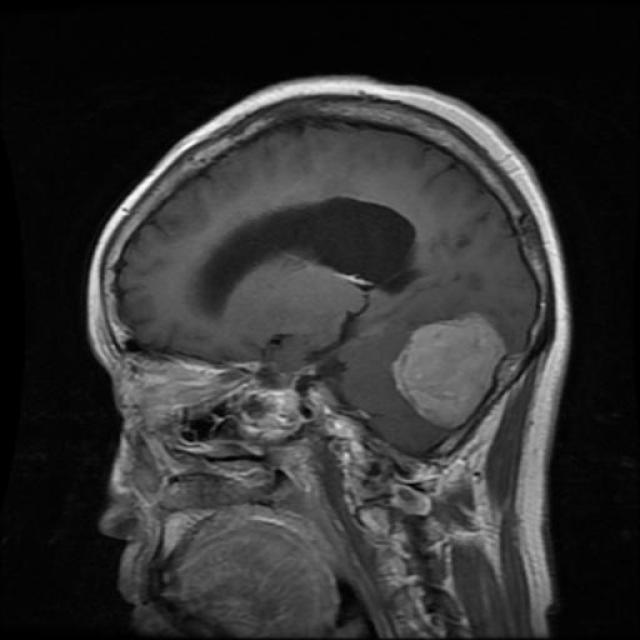meningioma: (391, 312, 512, 431)
